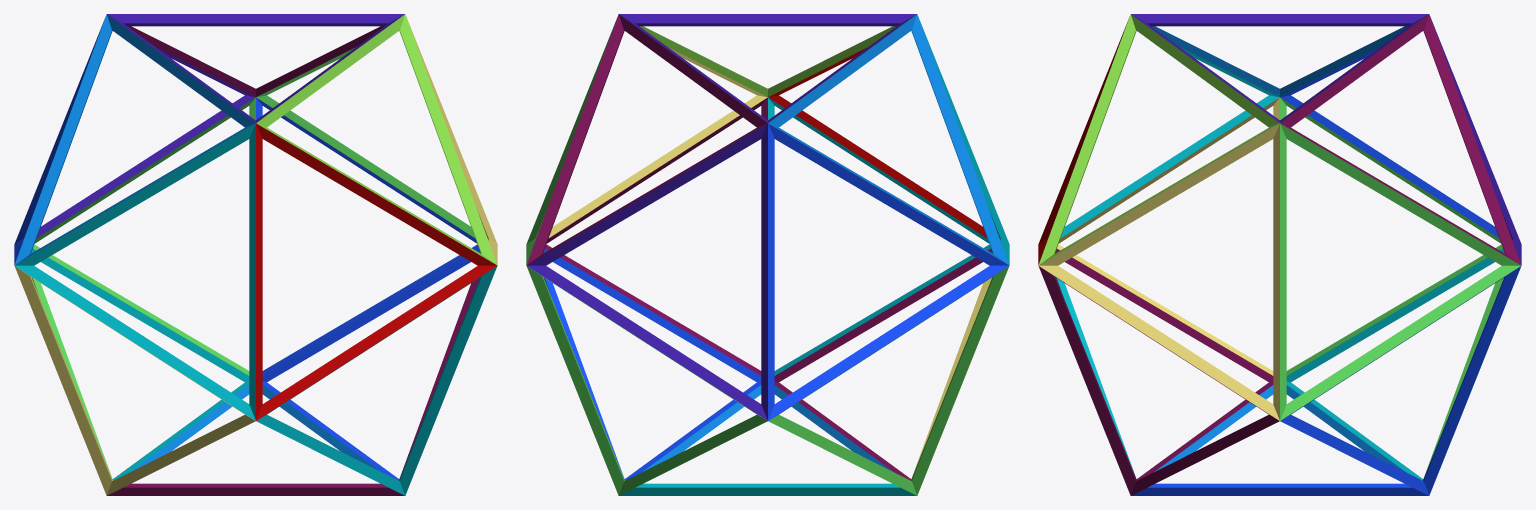
File: ico_wireframe.glb
The picture shows the model from 3 angles, left to right: view 1: azimuth 30°, elevation 25°; view 2: azimuth 150°, elevation 25°; view 3: azimuth 270°, elevation 25°; orthographic projection.
Visible parts, largest first — view 1: Cube.001; view 2: Cube.001; view 3: Cube.001.
Boxes of the visible parts, box(x1,y1,x2,y2) form: Cube.001: box(14, 14, 497, 495); Cube.001: box(526, 14, 1009, 495); Cube.001: box(1038, 14, 1521, 495).
Bounding box in the file's own units: 1.92 × 1.55 × 1.66.
